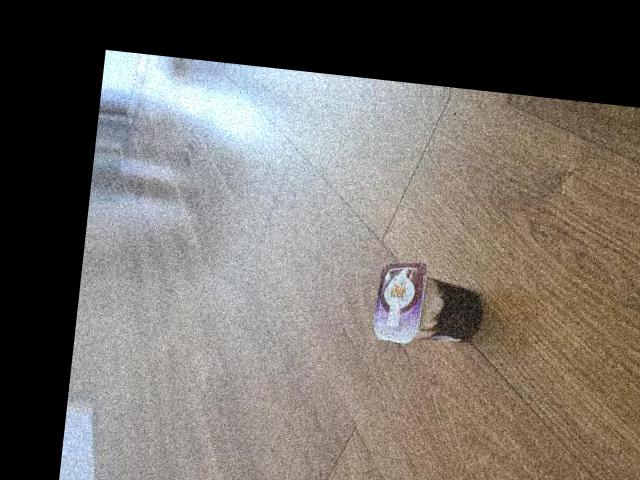milky: (370, 262, 488, 352)
